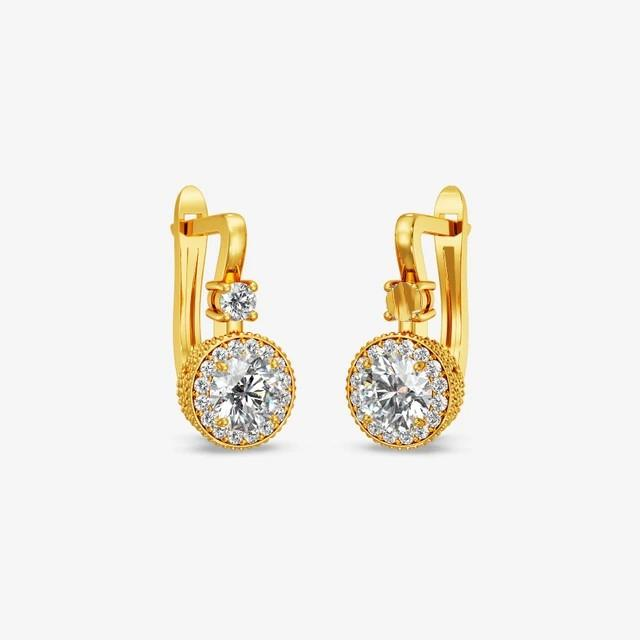missing gem: (386, 282, 423, 322)
